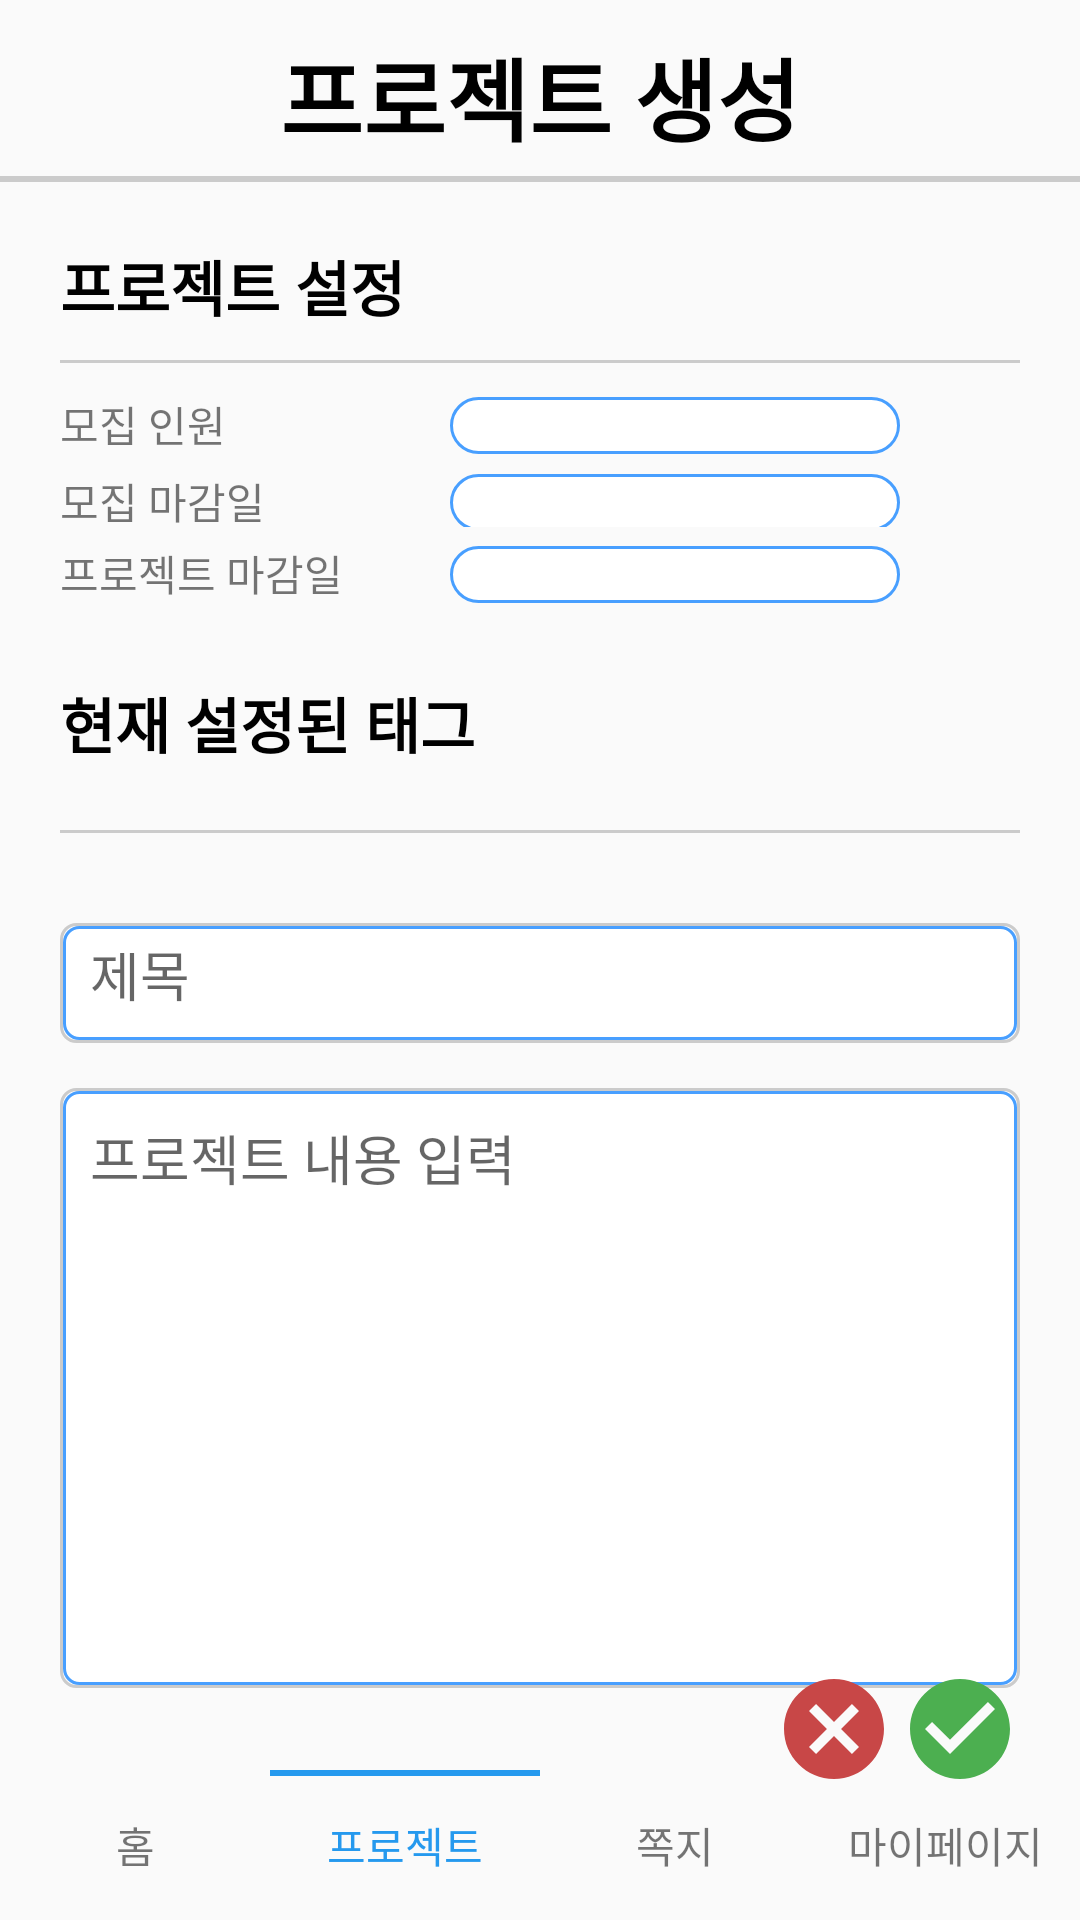

Icon click points for this 1080×1920 phone screenshot, format (x,y):
cancel: (834,1729)
check: (960,1724)
